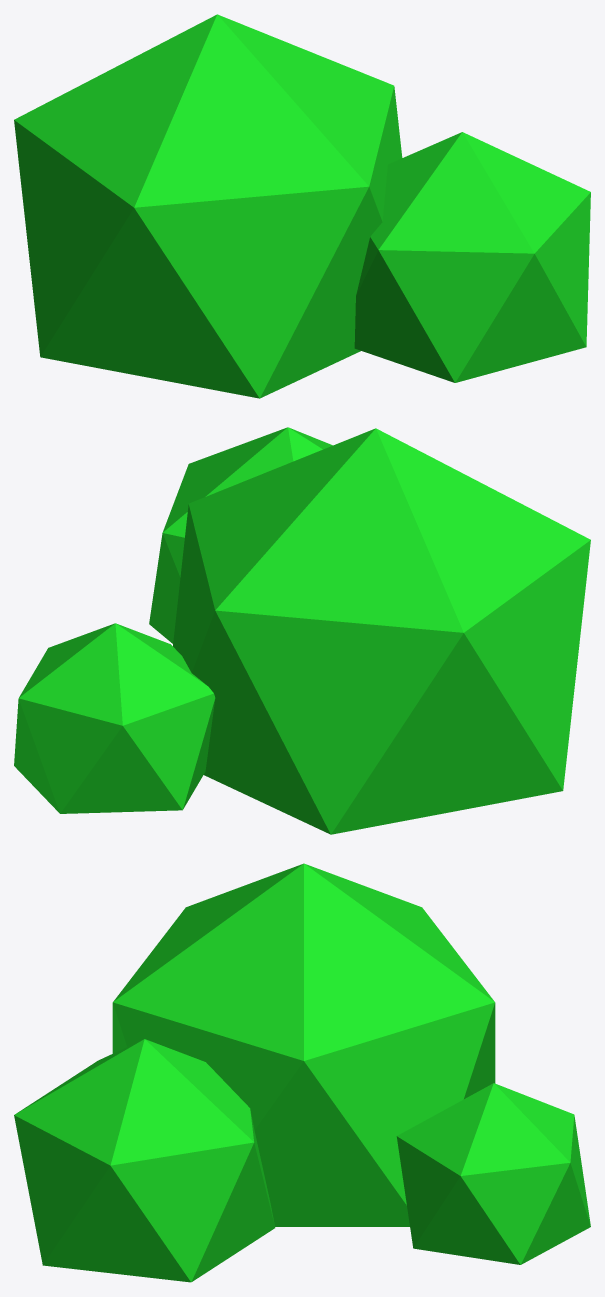
Rendered from bush2.fbx.
3 views of the same model, one above another, from view 1: azimuth 30°, elevation 25°; view 2: azimuth 150°, elevation 25°; view 3: azimuth 270°, elevation 25° (orthographic). The views are drawn at different scales.
Parts seen in each view (by area): view 1: Icosphere; view 2: Icosphere; view 3: Icosphere.
Part boxes in pixels (x1,y1,x2,y2): Icosphere: (14, 14, 590, 398); Icosphere: (14, 427, 590, 834); Icosphere: (14, 863, 590, 1282).
Size of the model in its own units: 229 by 152 by 257.
